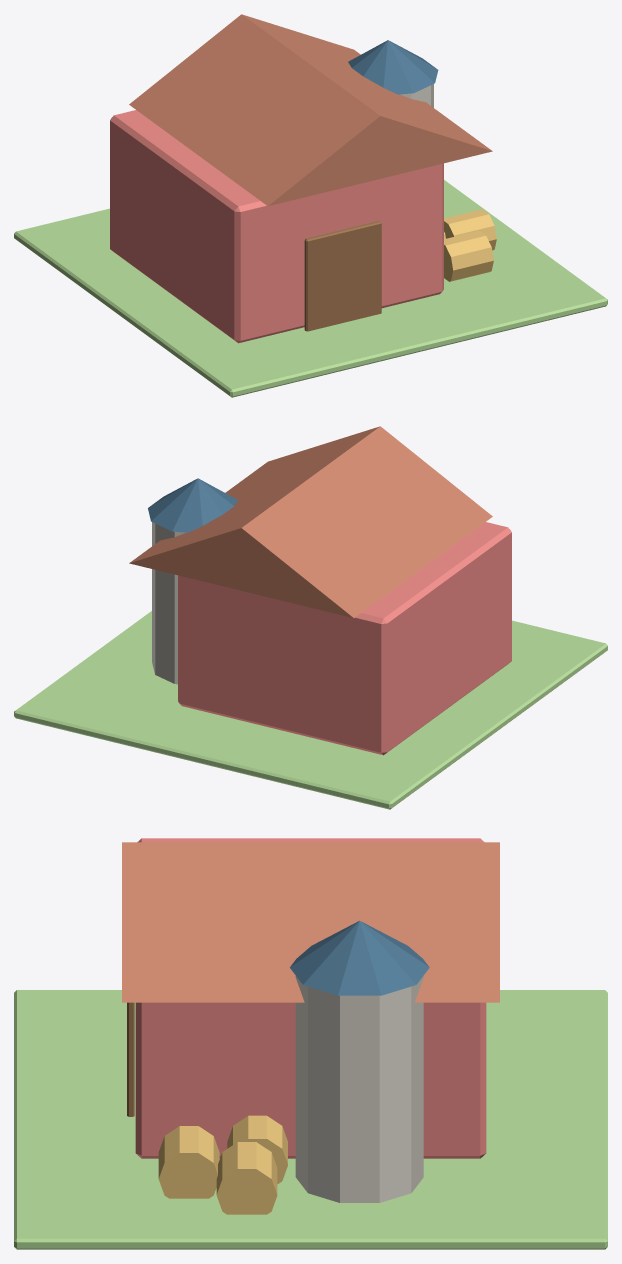
Rendered from AGR_BARN_2x2_001.glb.
3 renders of one model, top to bottom at view 1: azimuth 30°, elevation 25°; view 2: azimuth 150°, elevation 25°; view 3: azimuth 270°, elevation 25°, orthographic. The views are drawn at different scales.
Parts seen in each view (by area): view 1: AGR_BARN_2x2_001_Visual; view 2: AGR_BARN_2x2_001_Visual; view 3: AGR_BARN_2x2_001_Visual.
Boxes of the visible parts, x1,y1,x2,y2 form: AGR_BARN_2x2_001_Visual: [14, 14, 607, 397]; AGR_BARN_2x2_001_Visual: [14, 426, 607, 809]; AGR_BARN_2x2_001_Visual: [14, 838, 607, 1249].
Size of what is drawn, in the model's own units: 3.9 by 2.05 by 3.9.
